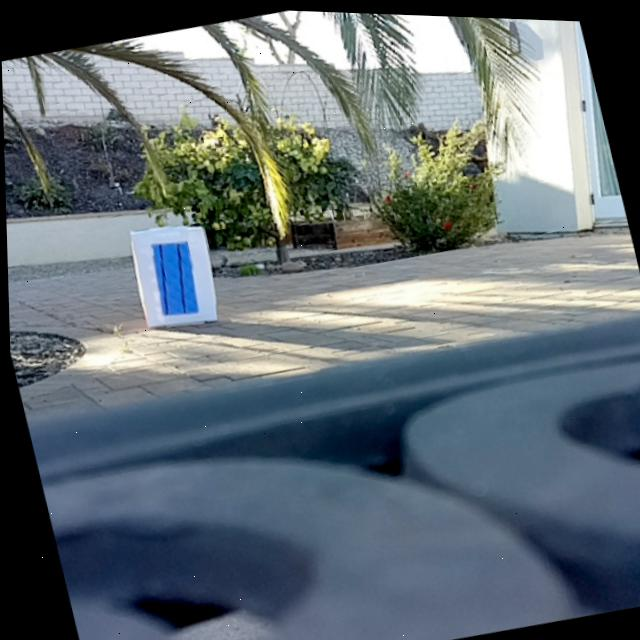led: (145, 236, 200, 319)
